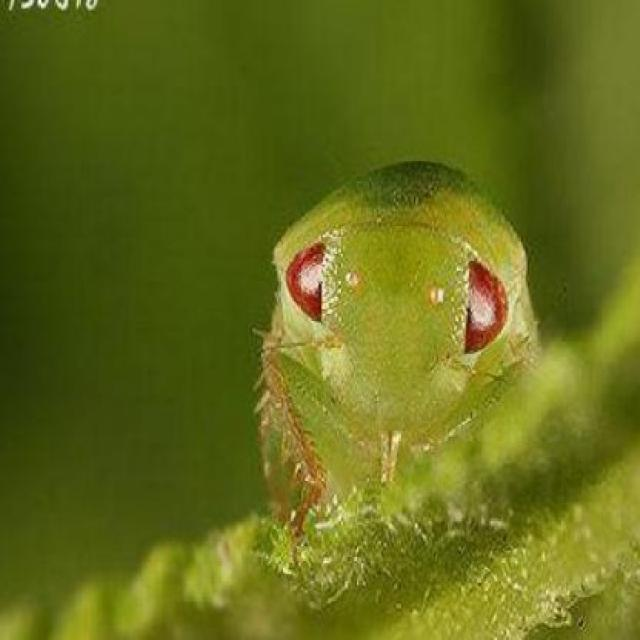green-leafhopper: (267, 155, 538, 523)
